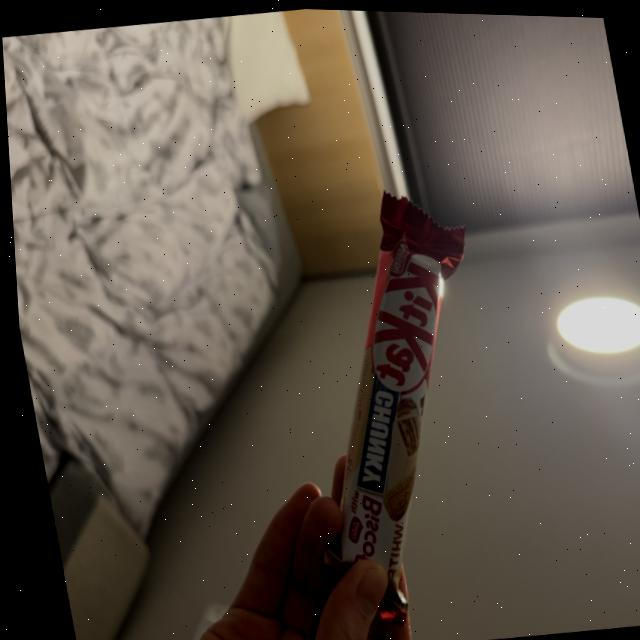chocolate: (248, 173, 530, 637)
